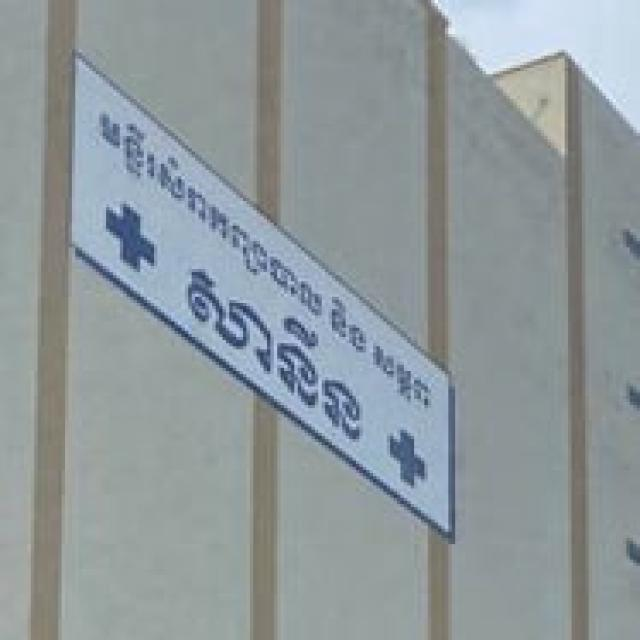2: (86, 87, 435, 417)
Yolov11kh: (171, 247, 366, 448)
